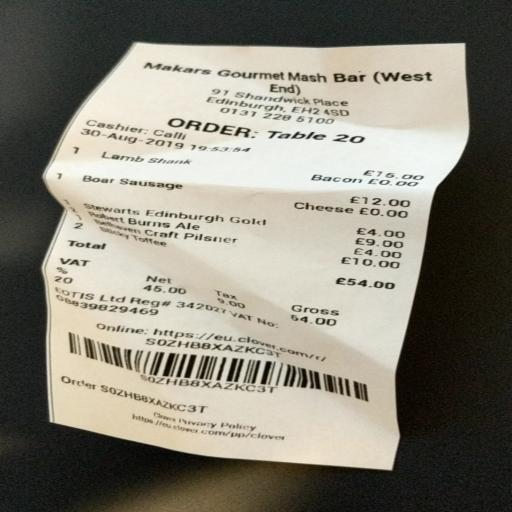paper: (28, 22, 479, 489)
